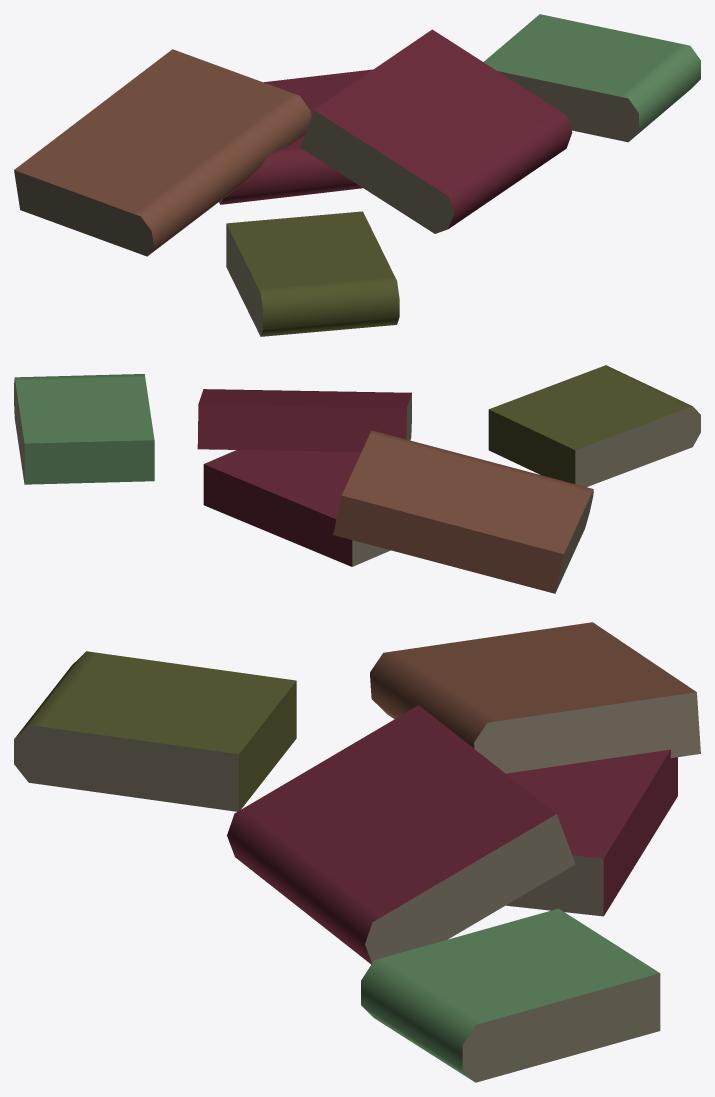
File: book_pile_01.gltf
The picture shows the model from 3 angles, top to bottom: view 1: azimuth 30°, elevation 25°; view 2: azimuth 150°, elevation 25°; view 3: azimuth 270°, elevation 25°; orthographic projection. The views are drawn at different scales.
Parts seen in each view (by area): view 1: Cube.031, Cube.027, Cube.054, Cube.041, Cube.004; view 2: Cube.031, Cube.054, Cube.041, Cube.004, Cube.027; view 3: Cube.027, Cube.041, Cube.031, Cube.054, Cube.004.
Boxes of the visible parts, box(x1,y1,x2,y2) form: Cube.031: box(14, 49, 311, 256); Cube.027: box(300, 29, 572, 233); Cube.054: box(226, 211, 399, 336); Cube.041: box(483, 14, 700, 142); Cube.004: box(219, 69, 373, 204); Cube.031: box(333, 430, 593, 593); Cube.054: box(488, 365, 700, 487); Cube.041: box(14, 374, 154, 484); Cube.004: box(203, 450, 390, 566); Cube.027: box(197, 389, 411, 452); Cube.027: box(227, 705, 575, 964); Cube.041: box(361, 908, 660, 1082); Cube.031: box(370, 622, 700, 773); Cube.054: box(14, 651, 296, 811); Cube.004: box(506, 749, 677, 916).
Bounding box in the file's own units: 1.56 × 0.2225 × 1.11.
